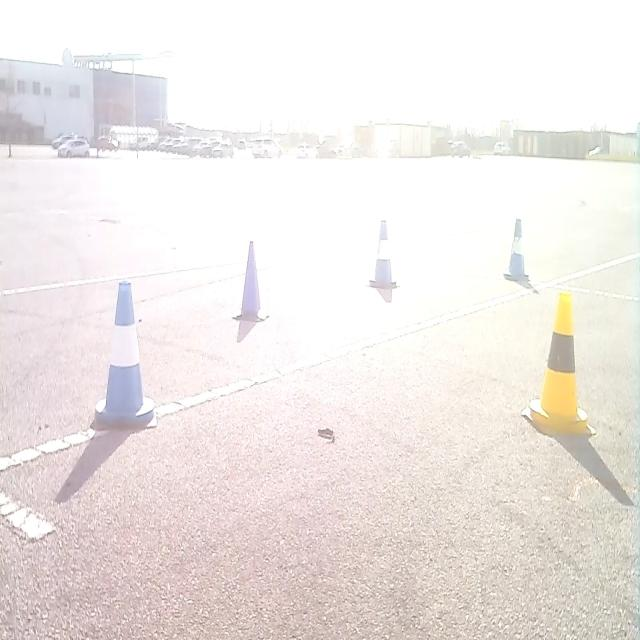blue_cone: (92, 278, 156, 432), (233, 238, 266, 323), (368, 218, 397, 303), (503, 216, 530, 285)
yellow_cone: (520, 288, 596, 438)
